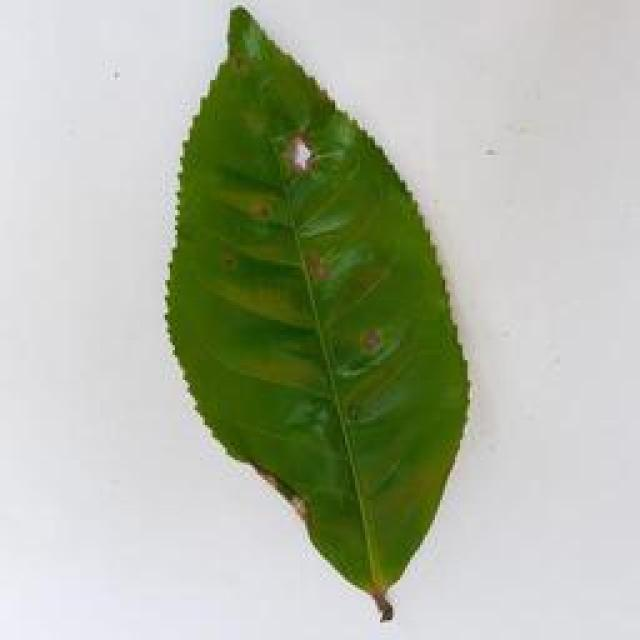Helopeltis: (156, 2, 472, 628)
